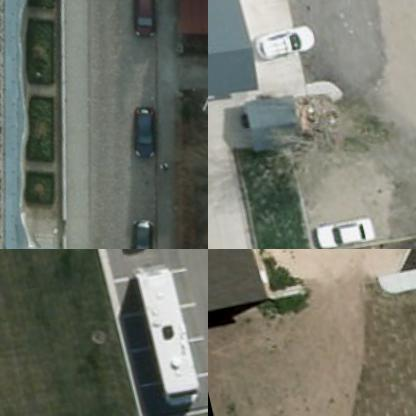camping car: (130, 256, 200, 401)
car: (252, 14, 322, 61), (308, 205, 380, 248), (118, 96, 165, 156), (116, 0, 166, 35), (116, 210, 159, 248)
